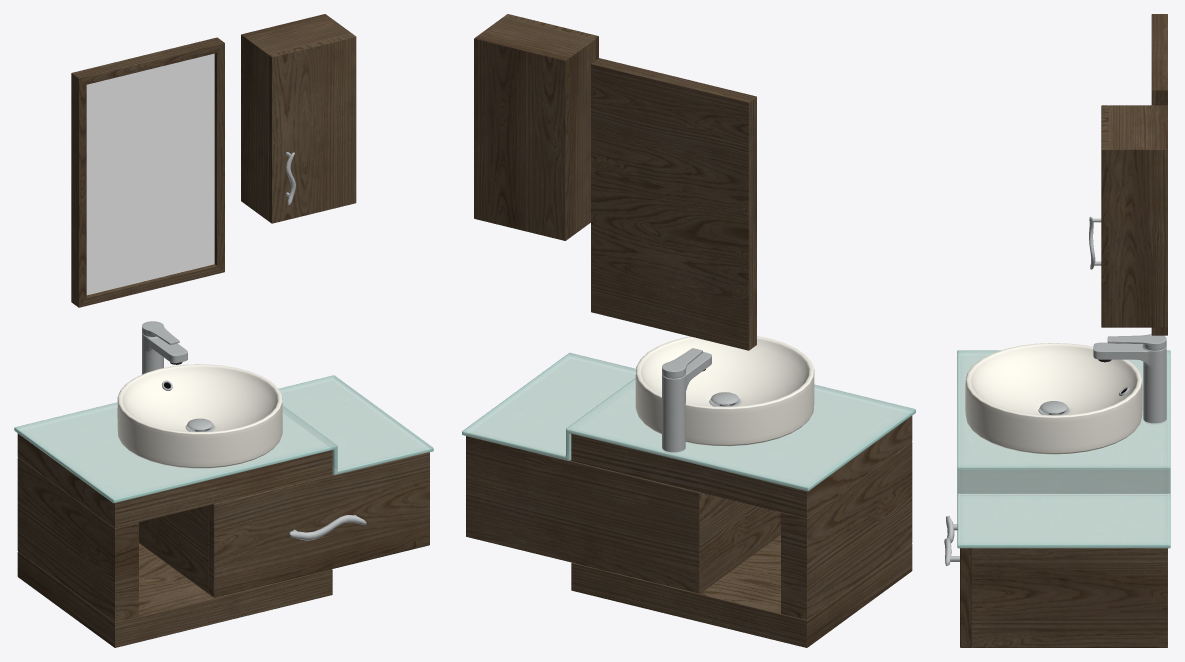
The model's file is vanity_sink.glb.
3 renders of one model, left to right at view 1: azimuth 30°, elevation 25°; view 2: azimuth 150°, elevation 25°; view 3: azimuth 270°, elevation 25°, orthographic. The views are drawn at different scales.
Parts seen in each view (by area): view 1: defaultMaterial (×5); view 2: defaultMaterial (×5); view 3: defaultMaterial (×5).
Part boxes in pixels (box(x1,y1,x2,y2)): defaultMaterial (×5): box(14, 14, 433, 647); defaultMaterial (×5): box(462, 14, 915, 647); defaultMaterial (×5): box(944, 14, 1170, 647).
Size of the model in its own units: 0.6096 by 0.8927 by 0.3486.
5 materials, 5 textured.
